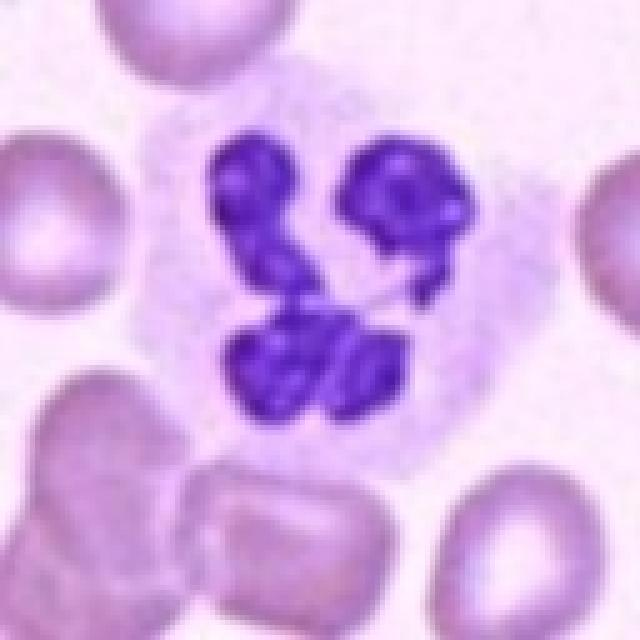neutro: (92, 37, 510, 536)
